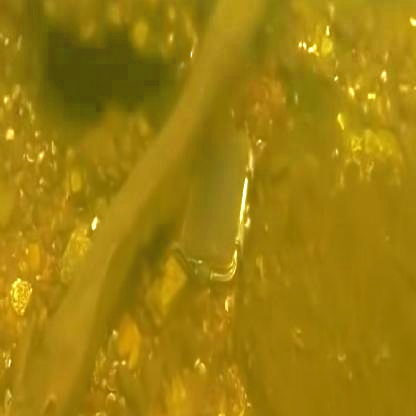electronics: (170, 116, 267, 333)
